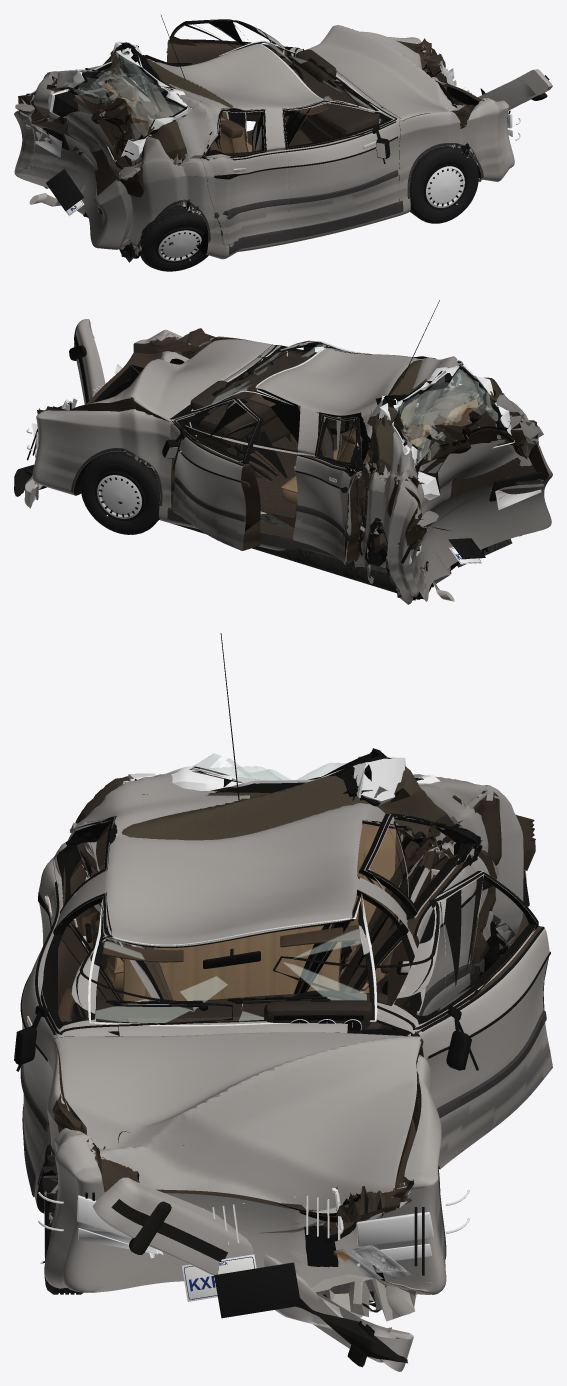
Rendered from sedan87_rear_d3.glb.
3 renders of one model, top to bottom at view 1: azimuth 30°, elevation 25°; view 2: azimuth 150°, elevation 25°; view 3: azimuth 270°, elevation 25°, orthographic. The views are drawn at different scales.
Parts seen in each view (by area): view 1: Body, Door_FR, Hood, Glass, Door_RR, Interior, Wheel_FR_mesh, Wheel_RR_mesh, Trunk, Trim, Door_FL, Trim_FR (+3 smaller); view 2: Body, Door_FL, Interior, Glass, Hood, Door_RL, Wheel_FL_mesh, Trunk, Underbody, Bumper_F, Ends, Trim (+5 smaller); view 3: Body, Hood, Door_FL, Interior, Bumper_F, Glass, Ends, Door_RL, Door_FR, Trim_FL, Trim_FR, Door_RR (+5 smaller).
Part boxes in pixels (left/top/right/bottom): Body: left=14, top=37, right=514, bottom=259; Door_FR: left=282, top=101, right=400, bottom=228; Hood: left=308, top=25, right=464, bottom=121; Glass: left=48, top=40, right=381, bottom=161; Door_RR: left=200, top=108, right=293, bottom=245; Interior: left=101, top=49, right=382, bottom=153; Wheel_FR_mesh: left=409, top=146, right=478, bottom=223; Wheel_RR_mesh: left=140, top=205, right=208, bottom=271; Trunk: left=25, top=74, right=136, bottom=214; Trim: left=137, top=14, right=483, bottom=254; Door_FL: left=167, top=20, right=303, bottom=121; Trim_FR: left=283, top=81, right=398, bottom=203; Body: left=32, top=328, right=552, bottom=604; Door_FL: left=170, top=398, right=263, bottom=550; Interior: left=190, top=354, right=477, bottom=545; Glass: left=191, top=341, right=514, bottom=500; Hood: left=69, top=339, right=274, bottom=421; Door_RL: left=293, top=414, right=365, bottom=565; Wheel_FL_mesh: left=80, top=451, right=159, bottom=534; Trunk: left=387, top=425, right=543, bottom=549; Underbody: left=118, top=501, right=512, bottom=601; Bumper_F: left=14, top=319, right=105, bottom=508; Ends: left=26, top=364, right=541, bottom=564; Trim: left=71, top=300, right=439, bottom=597; Body: left=34, top=748, right=535, bottom=1321; Hood: left=54, top=1032, right=423, bottom=1242; Door_FL: left=374, top=871, right=552, bottom=1169; Interior: left=73, top=823, right=403, bottom=1030; Bumper_F: left=92, top=1177, right=413, bottom=1371; Glass: left=88, top=753, right=440, bottom=1026; Ends: left=38, top=869, right=529, bottom=1318; Door_RL: left=359, top=814, right=498, bottom=1029; Door_FR: left=22, top=893, right=119, bottom=1174; Trim_FL: left=273, top=872, right=550, bottom=1118; Trim_FR: left=14, top=893, right=232, bottom=1132; Door_RR: left=38, top=817, right=115, bottom=1020.
Size of the model in its own units: 3.99 by 2.01 by 2.23.
Materials: 33 (5 with a texture image).
